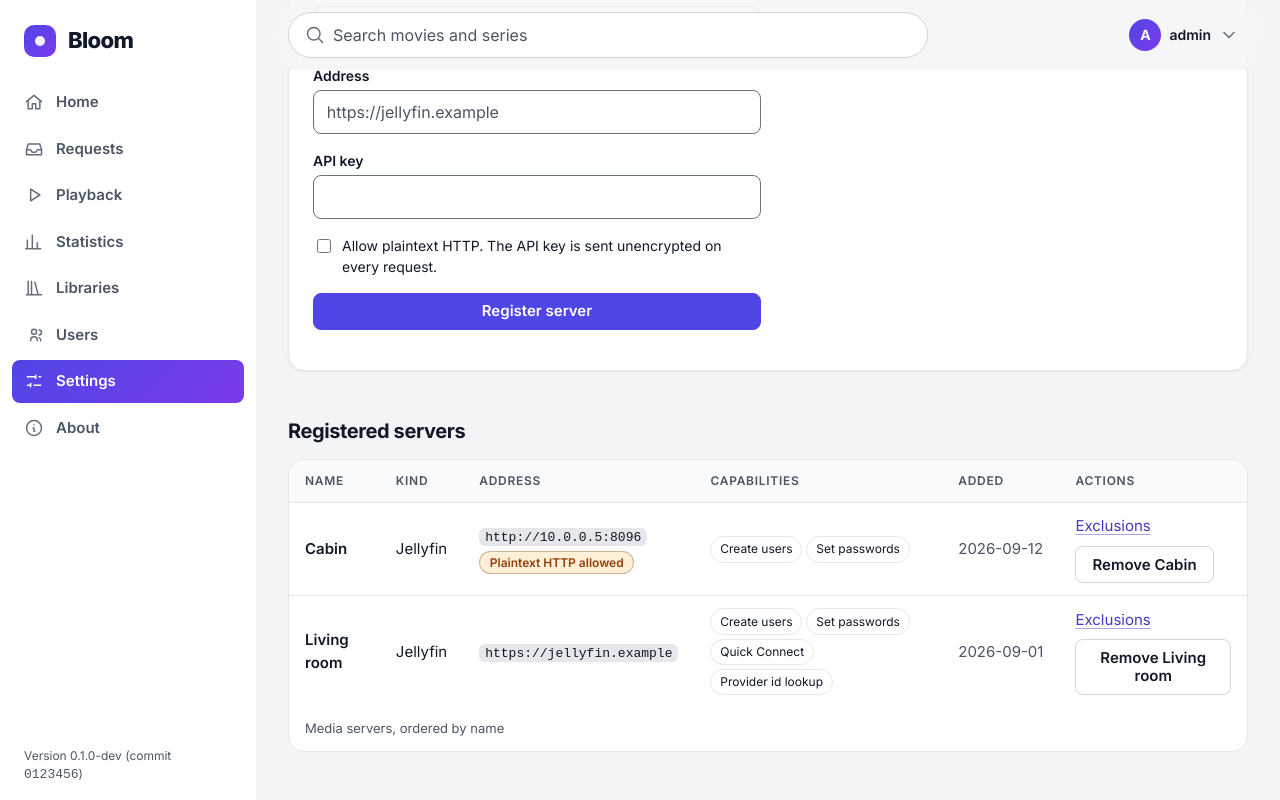
Test: reaches a server's exclusions from the media servers table
(page scrolled)
Click the link named "Exclusions of Cabin" at (1113, 527), box [1075, 515, 1151, 538]
(page scrolled)
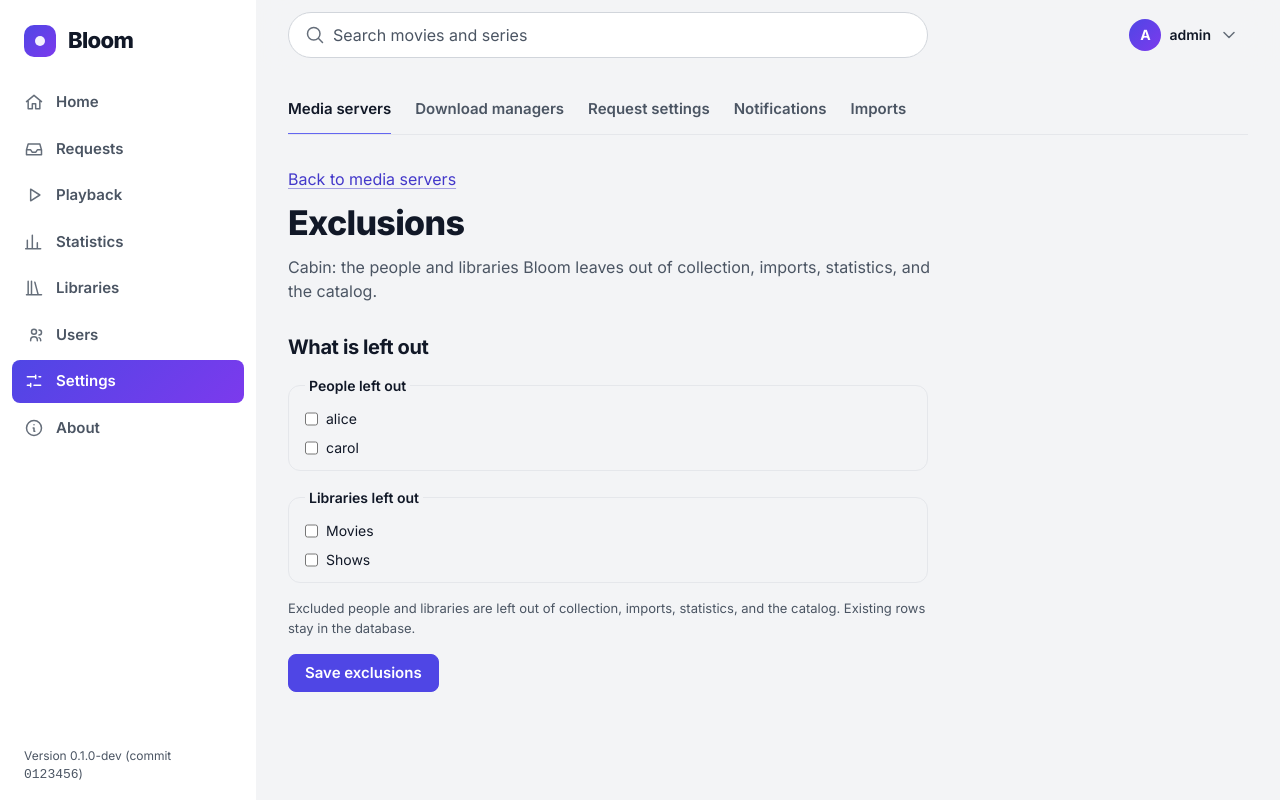
Check: the heading "Exclusions" is shown, box [288, 202, 464, 242]
